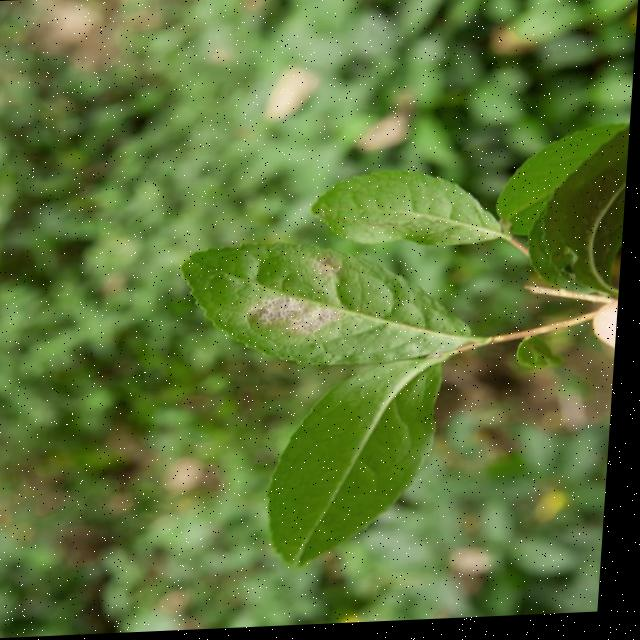Tea exobasidium blight: (234, 294, 342, 350), (296, 255, 361, 289)
